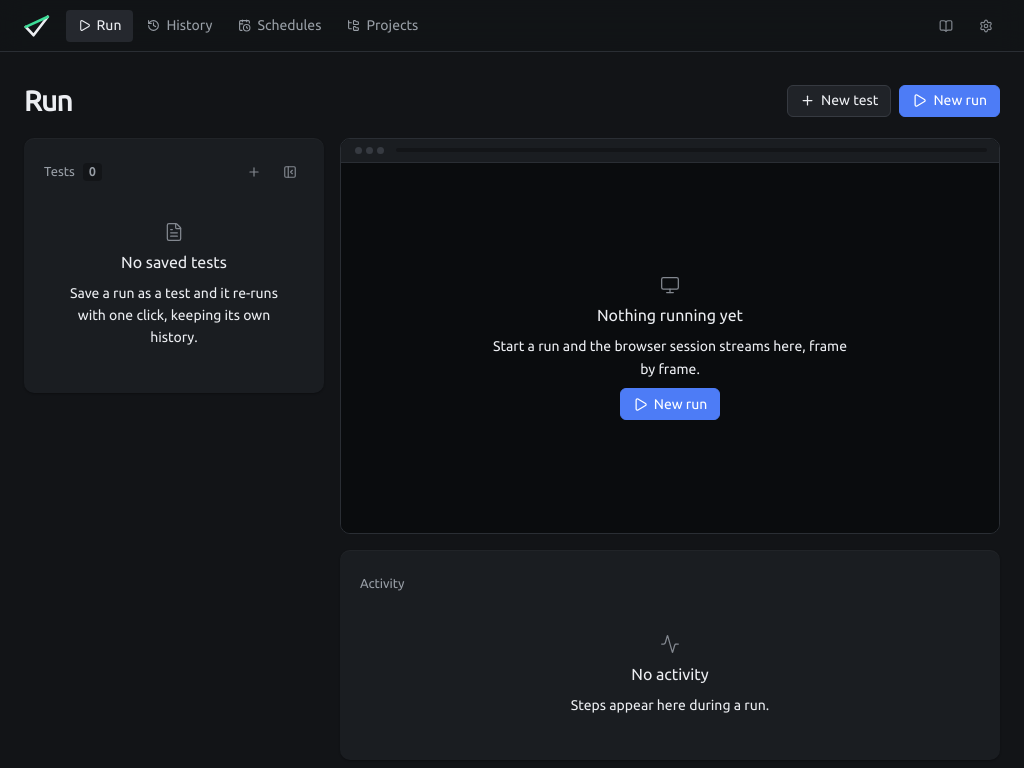
Billing panel (US-022) › renders nothing and fetches nothing when the instance does not bill
Expected: the text "History" is shown, [166, 15, 212, 36]
Click the button named "Settings": [986, 26] box [972, 12, 1000, 40]
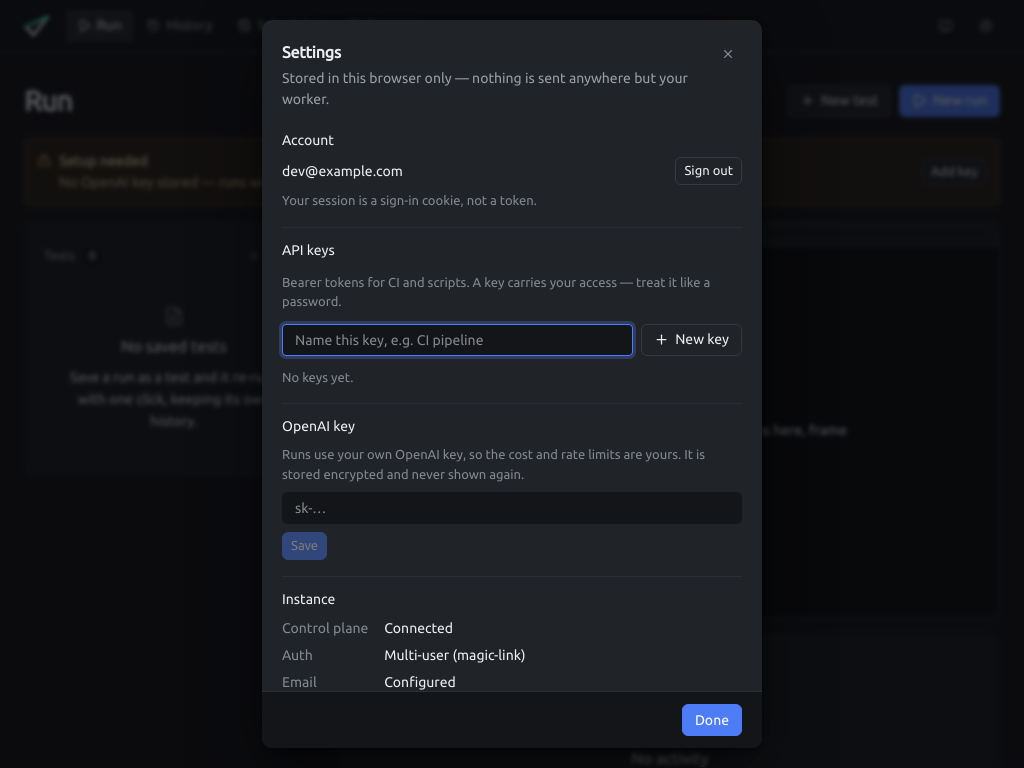
Expected: the text "OpenAI key" is shown, [282, 418, 355, 434]
